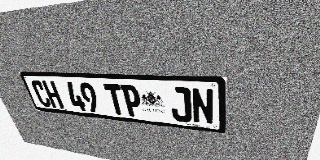4: (64, 81, 87, 111)
9: (78, 82, 101, 113)
C: (30, 80, 52, 107)
H: (42, 80, 64, 109)
J: (169, 86, 192, 123)
N: (191, 87, 214, 125)
P: (120, 84, 143, 117)
T: (103, 83, 127, 116)
